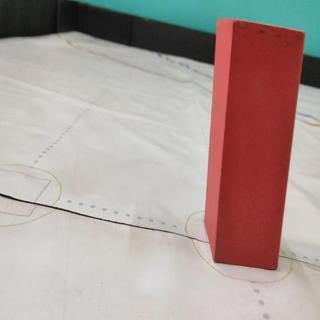redbox: (216, 20, 282, 264)
